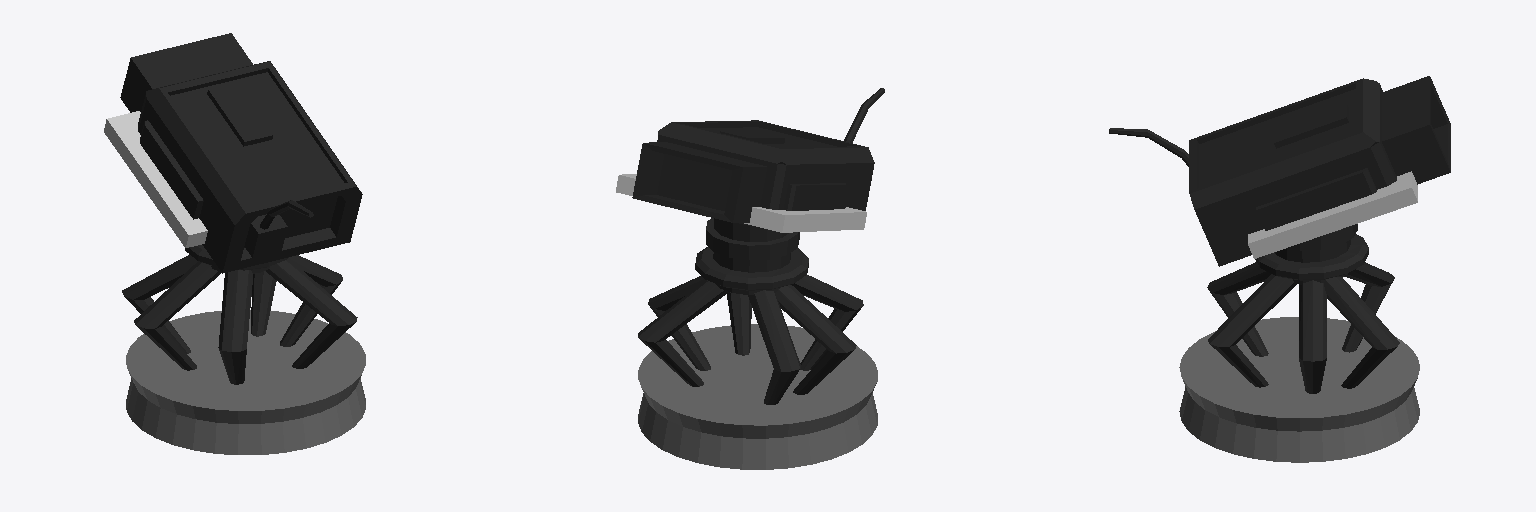
The picture shows the model from 3 angles: view 1: azimuth 30°, elevation 25°; view 2: azimuth 150°, elevation 25°; view 3: azimuth 270°, elevation 25°; orthographic projection.
Visible parts, largest first — view 1: box, Cylinder, 立方体; view 2: box, Cylinder, 立方体; view 3: box, Cylinder, 立方体.
Boxes of the visible parts, box(x1,y1,x2,y2) form: box: box(120, 33, 362, 384); Cylinder: box(126, 310, 365, 454); 立方体: box(104, 111, 207, 247); box: box(632, 88, 884, 404); Cylinder: box(638, 324, 877, 469); 立方体: box(616, 174, 866, 232); box: box(1109, 76, 1450, 393); Cylinder: box(1179, 317, 1419, 462); 立方体: box(1248, 171, 1417, 258).
Bounding box in the file's own units: 1.28 × 1.83 × 1.81.
3 materials, 2 textured.